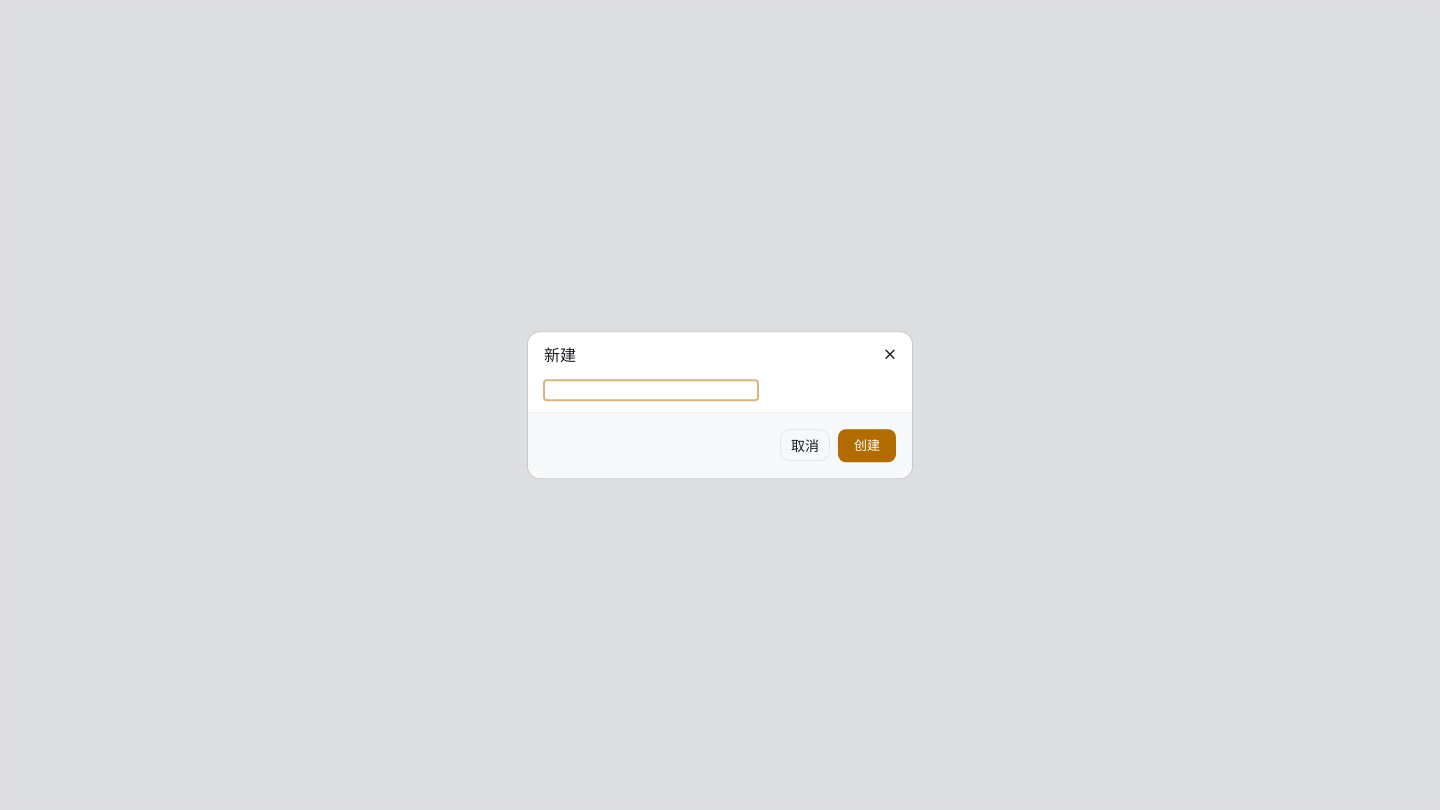
Test: FormDialog › 校验失败不提交，显示字段错误
Click the button "创建" at [867, 446], box [838,429,896,462]
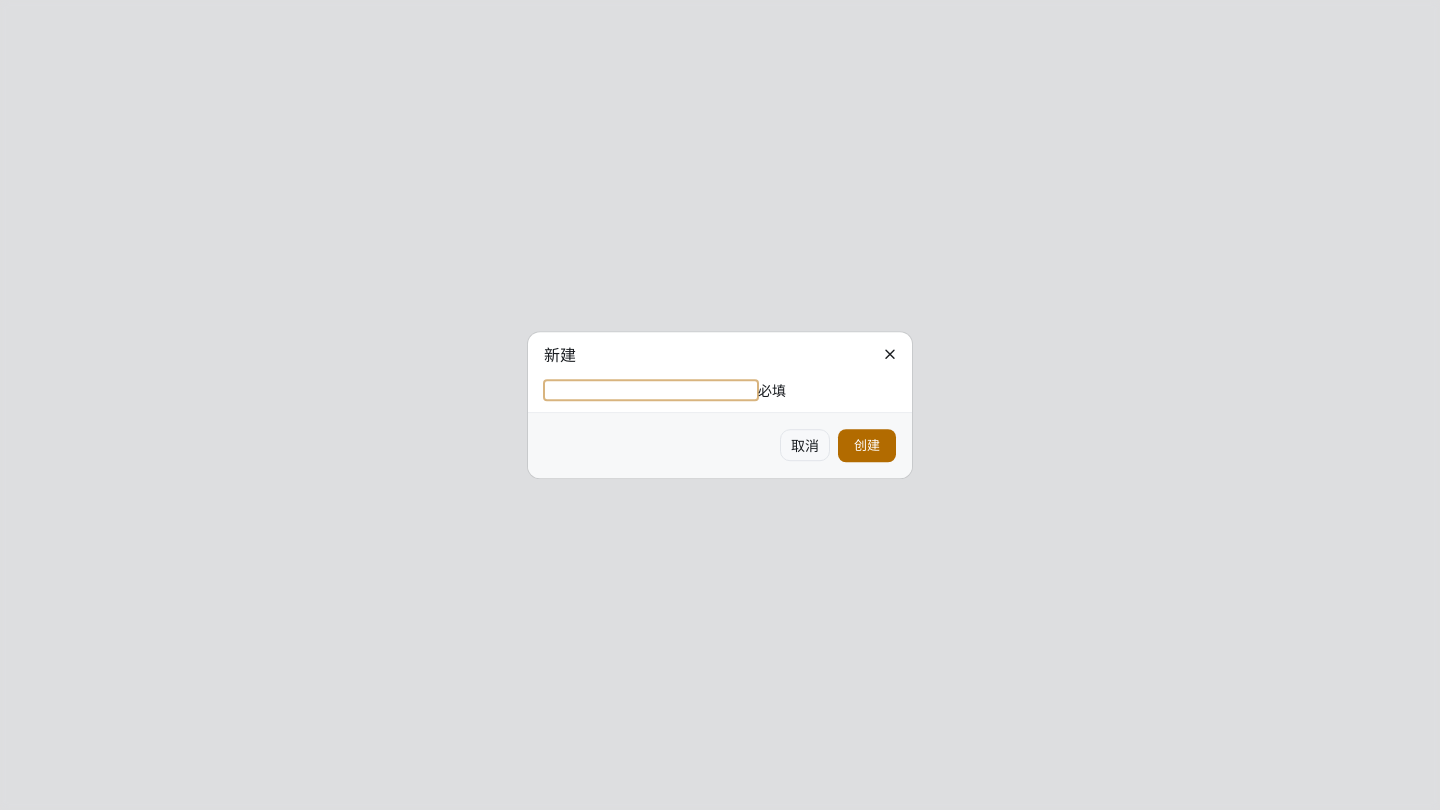
Result: the text "必填" is shown at [758,380,786,400]
